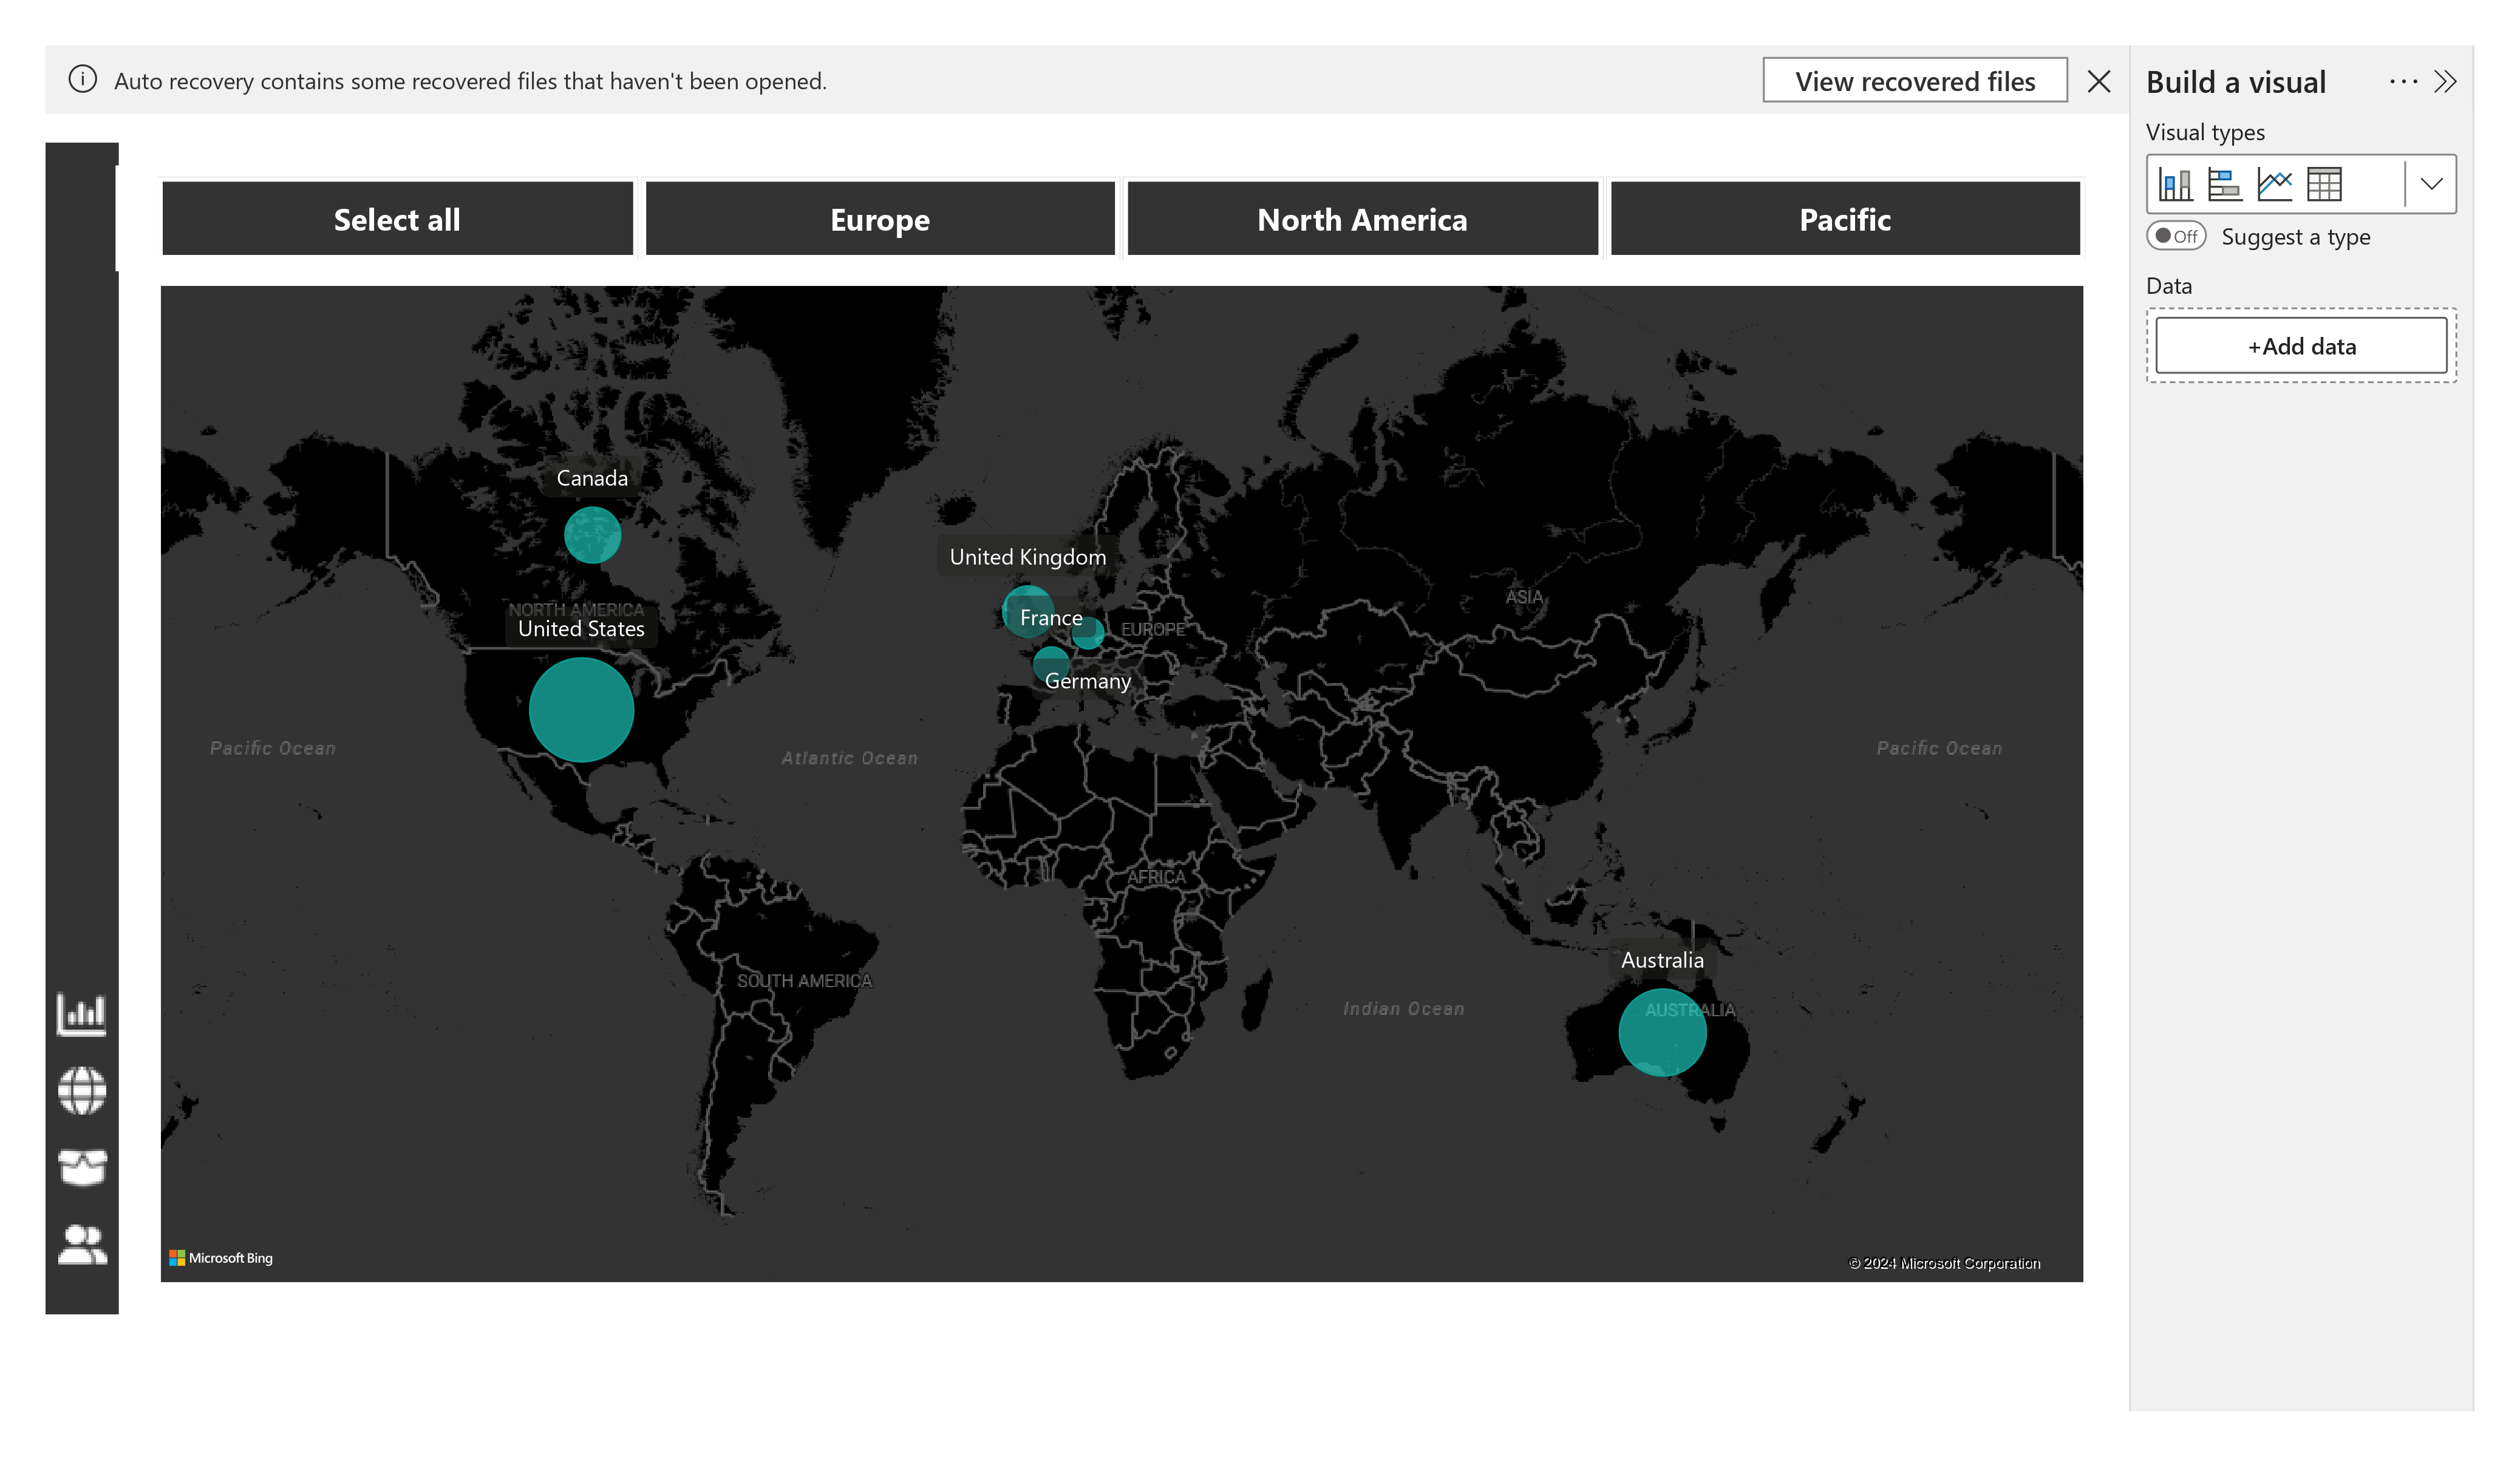

The dashboard page shown, as its layout file describes it:
{"tool":"powerbi","page":{"name":"Map","canvas":[1280,720],"ordinal":1},"visuals":[{"type":"shape","box":[0,0,45,720],"z":0},{"type":"actionButton","box":[2.5,516.7,45.6,37.8],"z":0,"group":"g1"},{"type":"actionButton","box":[3.3,563.4,45.6,37.8],"z":1000,"group":"g1"},{"type":"map","fields":{"Category":["Territory Lookup.Country"],"Size":["Measure Table.Total Orders"]},"box":[65.6,82.5,1191.3,622.8],"z":1000},{"type":"slicer","fields":{"Values":["Territory Lookup.Continent"]},"box":[43,13.6,1234.3,65.6],"z":2000},{"type":"actionButton","box":[3.3,611.1,45.6,37.8],"z":2000,"group":"g1"},{"type":"actionButton","box":[3.3,657.8,45.6,37.8],"z":3000,"group":"g1"},{"type":"group","id":"g1","title":"Navigation Buttons","box":[2.5,516.7,46.4,178.9],"z":3000}]}

Visuals, with their boxes on the page's 1280x720 design canvas (x1, y1, x2, y2). These are canvas units, not pixel positions in the 2520x1457 screenshot, which may show the page scaled, cropped or inside an application window:
shape: box=[0, 0, 45, 720]
actionButton: box=[2, 517, 48, 554]
actionButton: box=[3, 563, 49, 601]
map - Territory Lookup.Country x Measure Table.Total Orders: box=[66, 82, 1257, 705]
slicer - Territory Lookup.Continent: box=[43, 14, 1277, 79]
actionButton: box=[3, 611, 49, 649]
actionButton: box=[3, 658, 49, 696]
"Navigation Buttons" group: box=[2, 517, 49, 696]
